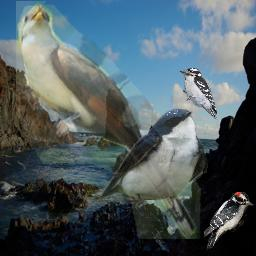Cuckoo: (16, 1, 201, 239)
Swallow: (98, 108, 208, 218)
Woodpecker: (204, 192, 255, 250), (179, 68, 217, 121)
